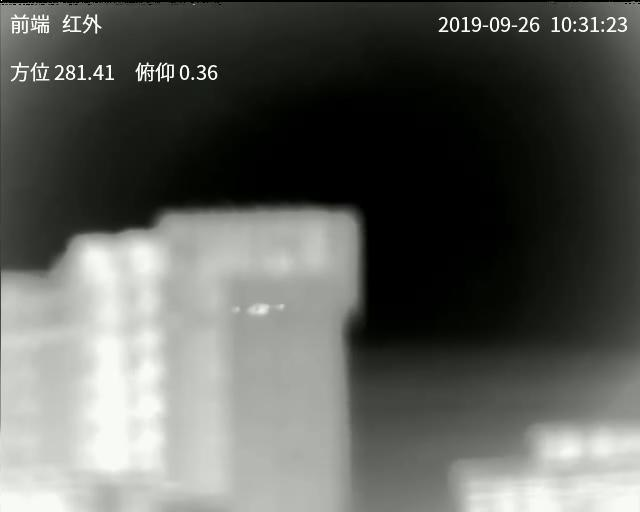uav: (229, 298, 285, 320)
